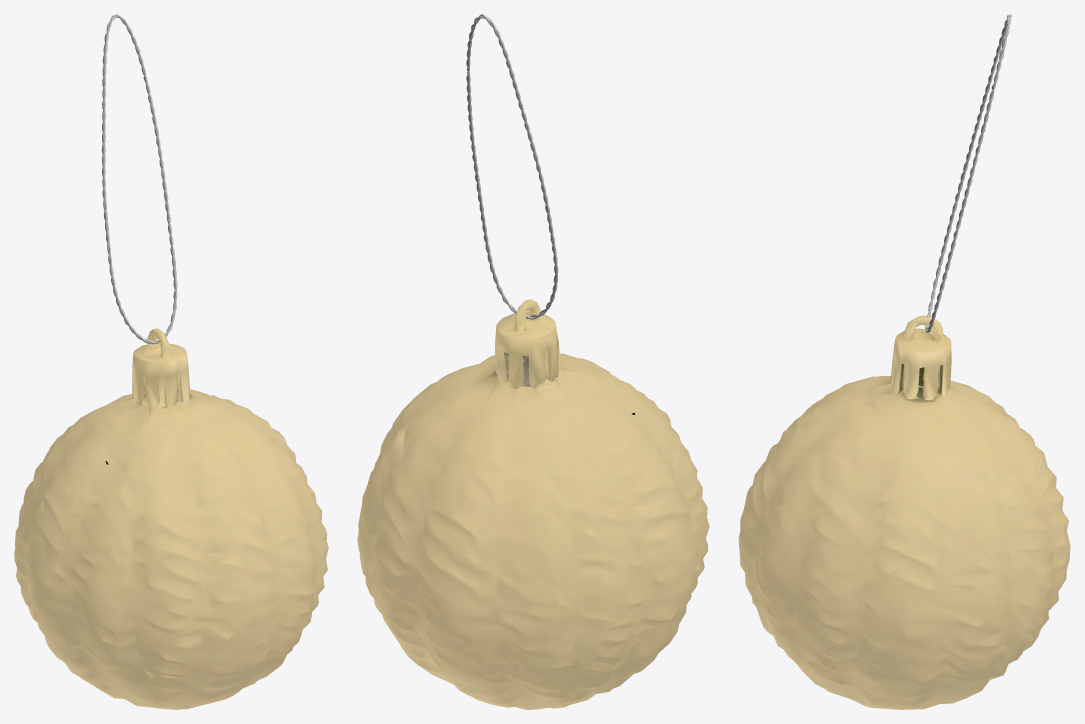
Rendered from Golden_Ribbed_Orb.glb.
3 views of the same model, side by side, from view 1: azimuth 30°, elevation 25°; view 2: azimuth 150°, elevation 25°; view 3: azimuth 270°, elevation 25° (orthographic). The views are drawn at different scales.
Visible parts, largest first — view 1: Mesh1.0, GN Instance; view 2: Mesh1.0, GN Instance; view 3: Mesh1.0, GN Instance.
Part boxes in pixels (left/top/right/bottom): Mesh1.0: left=14, top=328, right=328, bottom=709; GN Instance: left=101, top=14, right=177, bottom=344; Mesh1.0: left=357, top=299, right=709, bottom=709; GN Instance: left=466, top=14, right=558, bottom=319; Mesh1.0: left=738, top=315, right=1070, bottom=709; GN Instance: left=925, top=14, right=1011, bottom=332.
Size of the model in its own units: 0.055 by 0.1249 by 0.0551.
Materials: 2 (1 with a texture image).
